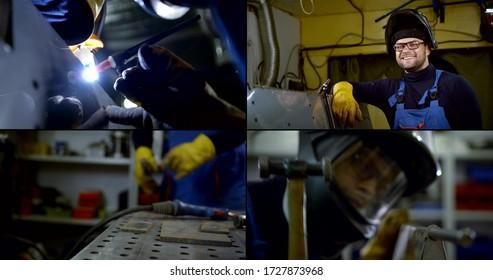gloves: (113, 44, 247, 130), (161, 133, 217, 180), (329, 81, 364, 128), (134, 147, 159, 194)
